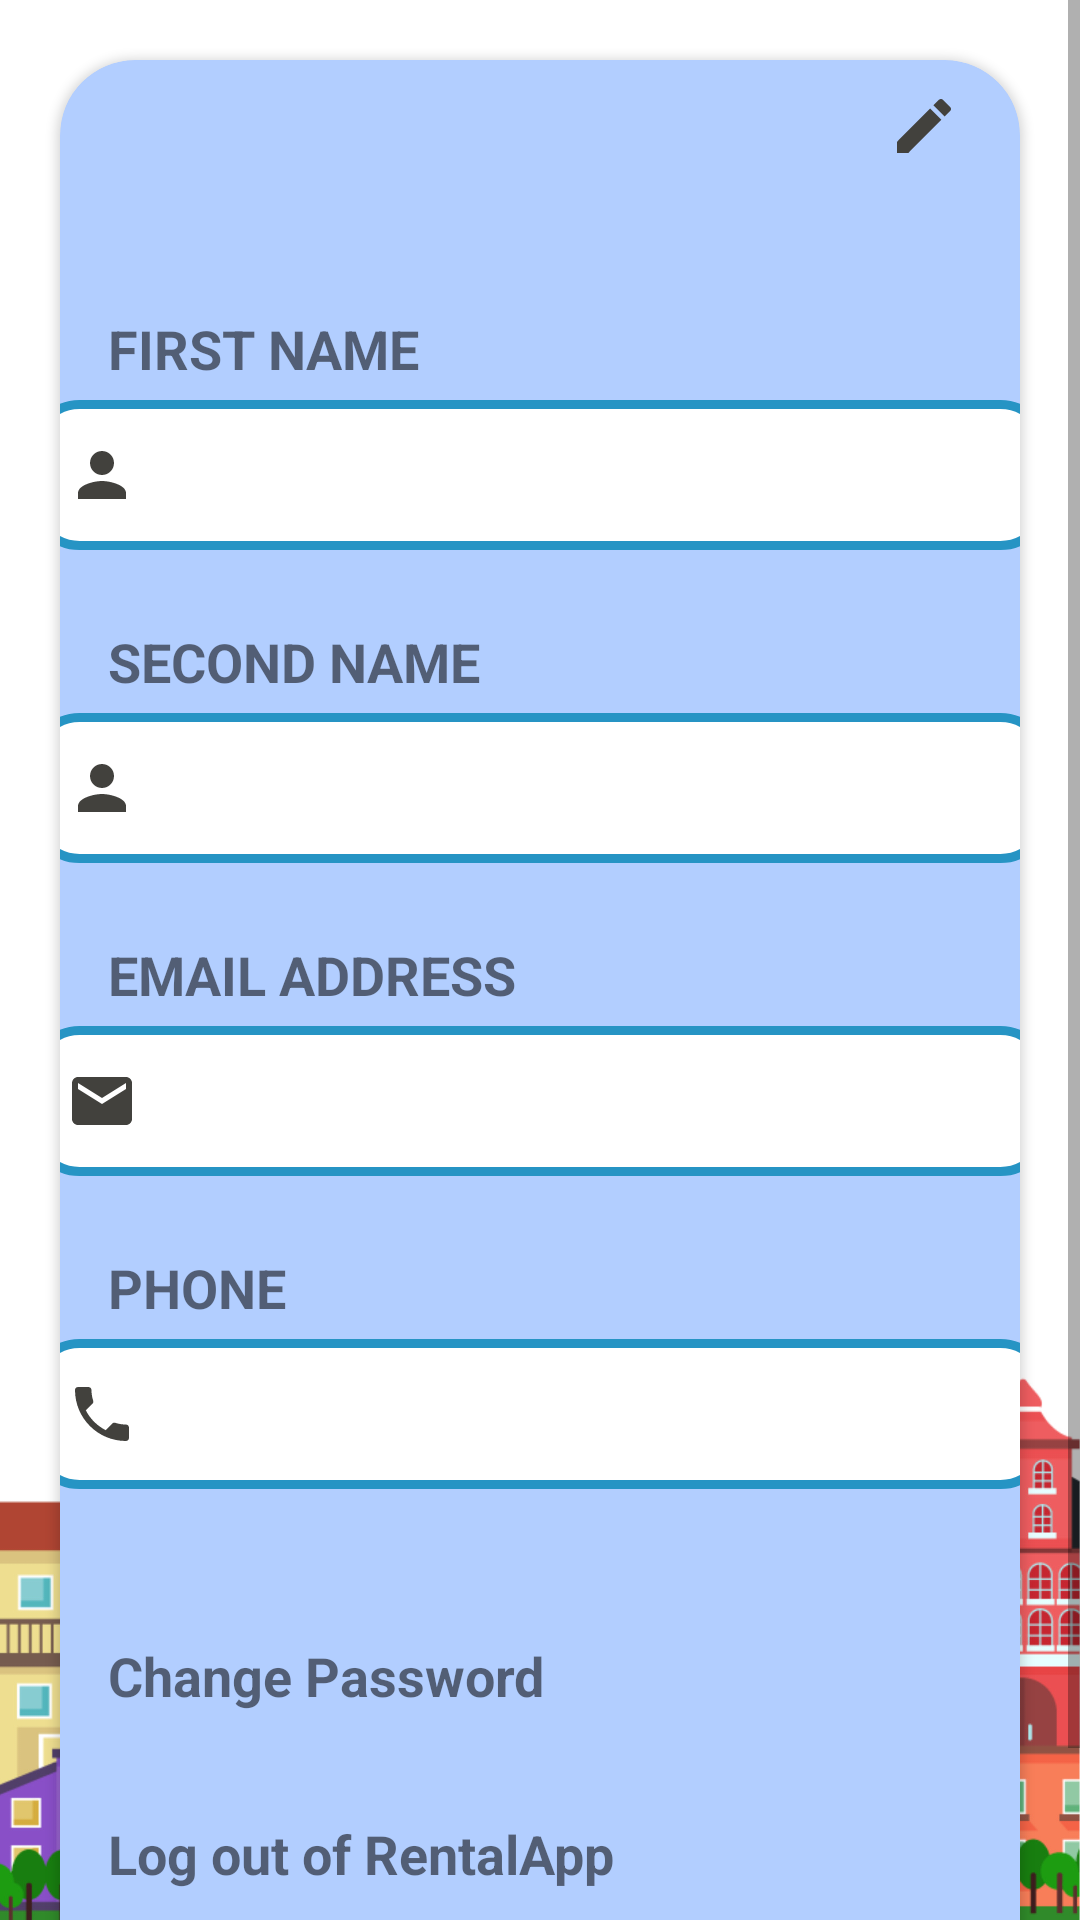

Where icons sit on this 1080 x 1920 app screen, as (x1,y1,x2,y2):
mode edit: (897,99,951,153)
